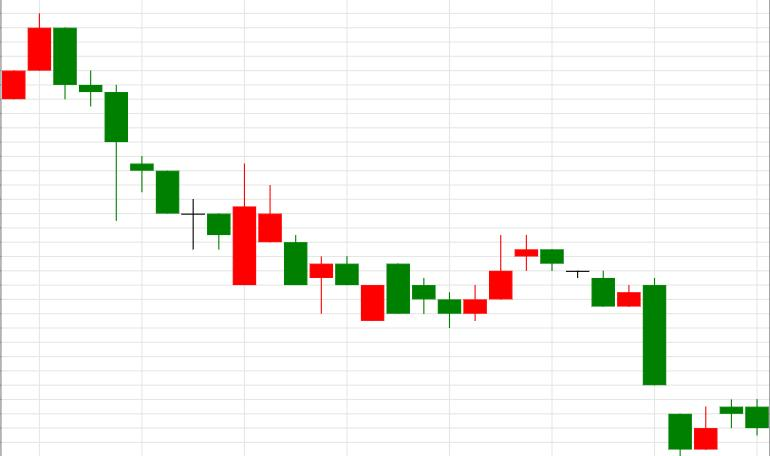bullish_engulfing_rise: (53, 29, 255, 286)
